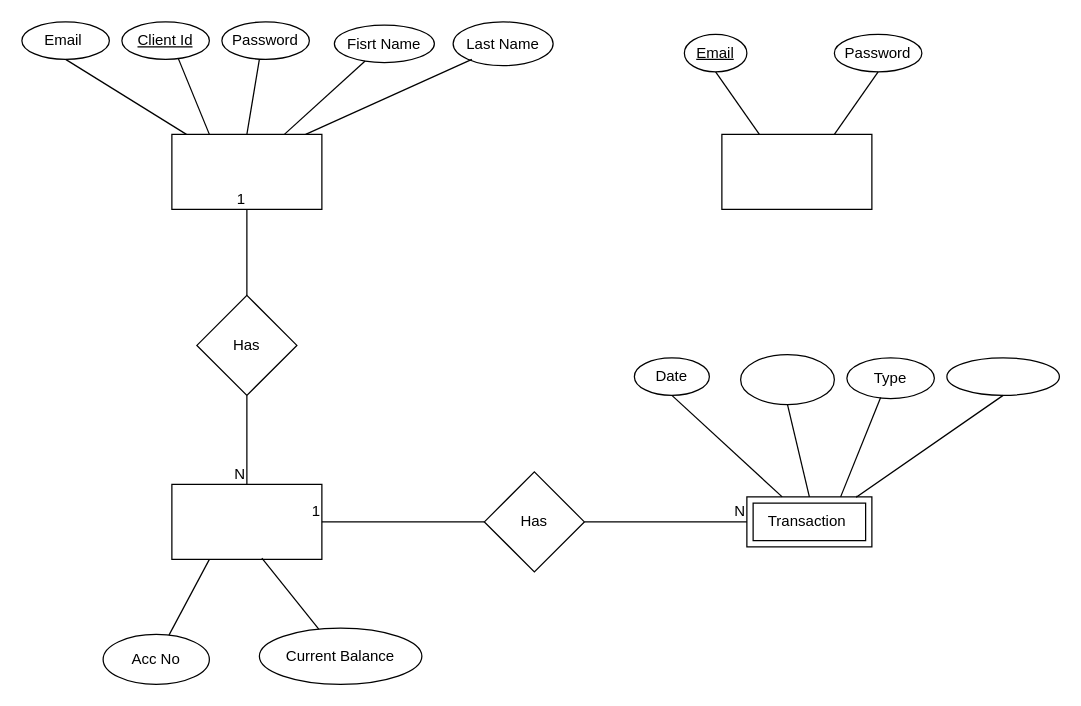
Image size: 1081x706. Some labels were removed from this diagram. The shapes that lost their labels are listed below. From the top down, each one's centre as x and y in pixels, then its label:
At (x=246, y=171): "client".
At (x=796, y=171): "Admin".
At (x=786, y=379): "Source Acc".
At (x=1002, y=376): "Amount".
At (x=246, y=521): "Account".
